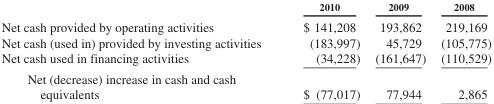table: (0, 0, 490, 101)
table column: (0, 0, 281, 101), (281, 0, 367, 101), (367, 0, 432, 101), (432, 0, 490, 101)
table column header: (0, 0, 490, 16)
table row: (0, 67, 490, 101), (0, 16, 490, 34), (0, 49, 490, 67), (0, 0, 490, 16), (0, 34, 490, 49)
